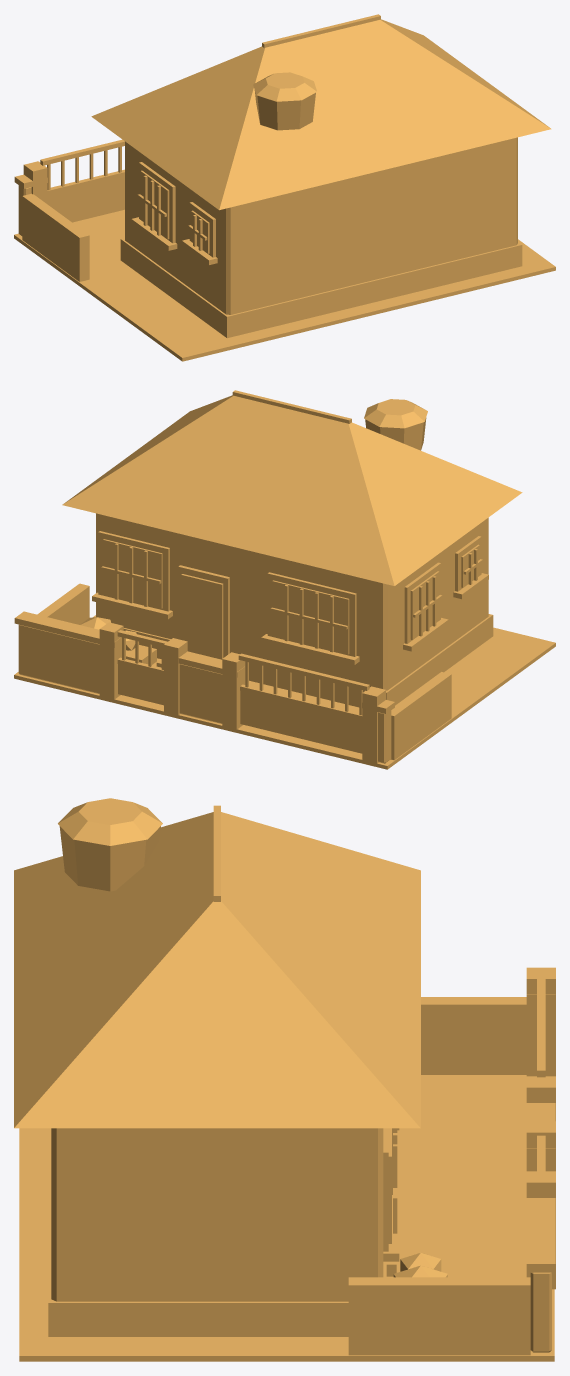
3 views of the same model, one above another, from view 1: azimuth 30°, elevation 25°; view 2: azimuth 150°, elevation 25°; view 3: azimuth 270°, elevation 25° (orthographic). The views are drawn at different scales.
Parts seen in each view (by area): view 1: corpo; view 2: corpo; view 3: corpo.
Boxes of the visible parts, box(x1,y1,x2,y2) form: corpo: box(14, 14, 555, 361); corpo: box(14, 390, 555, 769); corpo: box(14, 798, 555, 1361).
Size of the model in its own units: 1.28 by 0.778 by 1.01.
